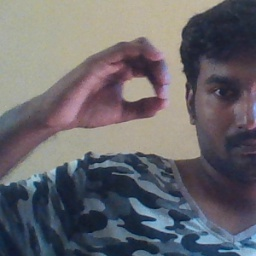O: (47, 34, 173, 128)
